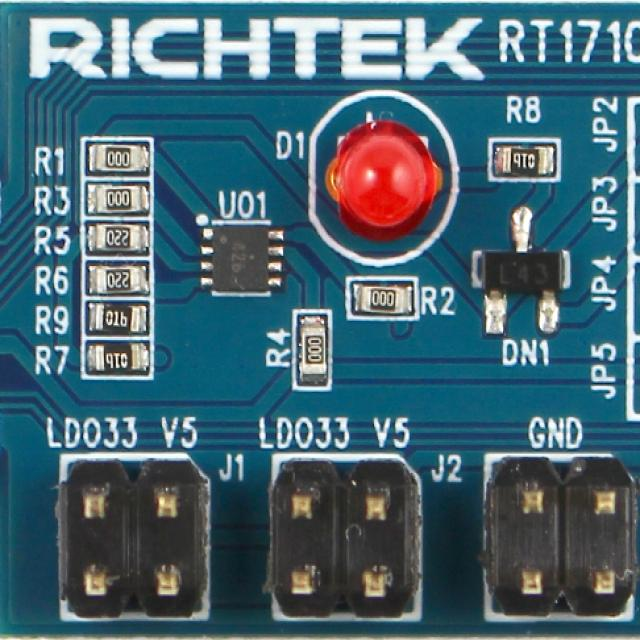4439: (476, 224, 560, 323)
IC: (205, 221, 281, 290)
LED: (318, 110, 433, 238)
connector -5v-: (272, 458, 416, 620), (490, 460, 632, 619), (55, 454, 198, 603)
resistor IR1: (484, 145, 551, 178), (92, 340, 146, 373), (94, 258, 149, 290), (92, 298, 146, 330), (94, 145, 148, 176), (298, 316, 323, 379), (99, 183, 152, 210), (359, 290, 414, 315), (100, 228, 142, 248)
